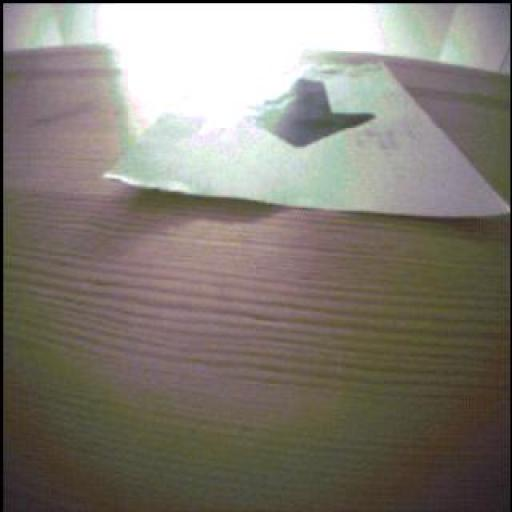Arrow: (261, 80, 376, 149)
